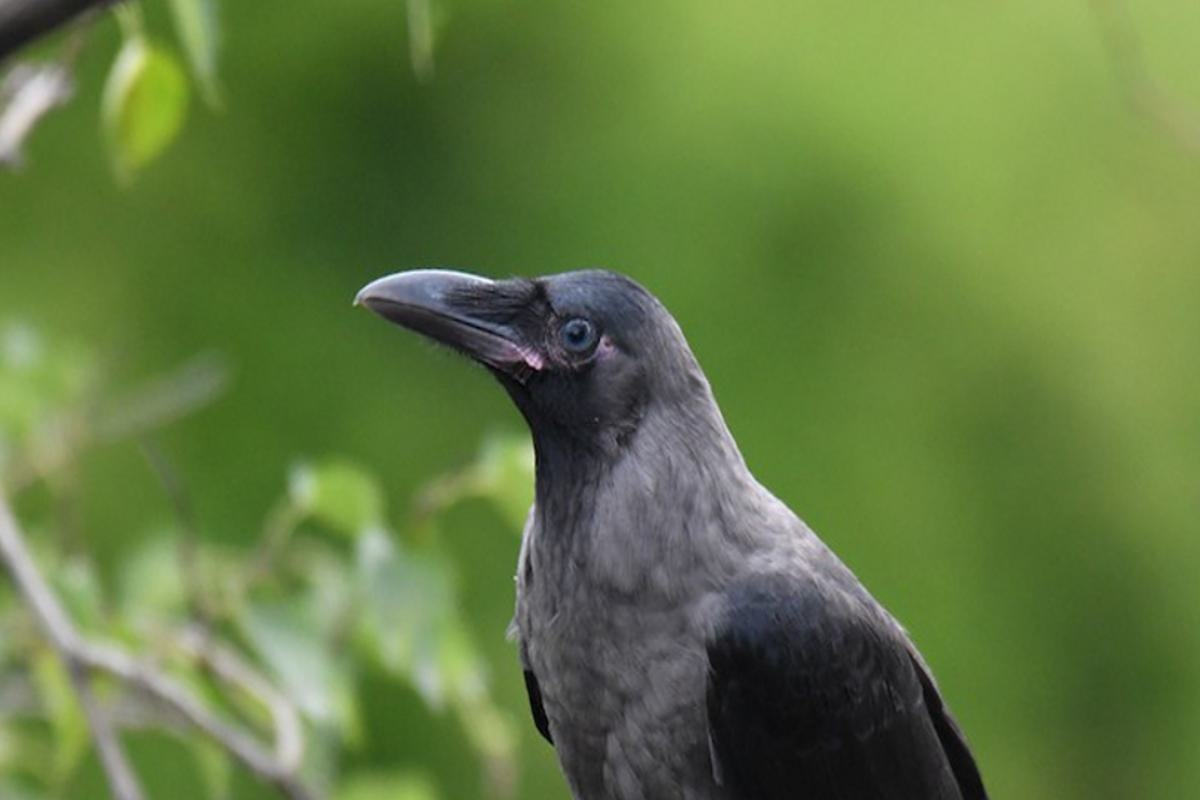crow: (351, 240, 1027, 800)
